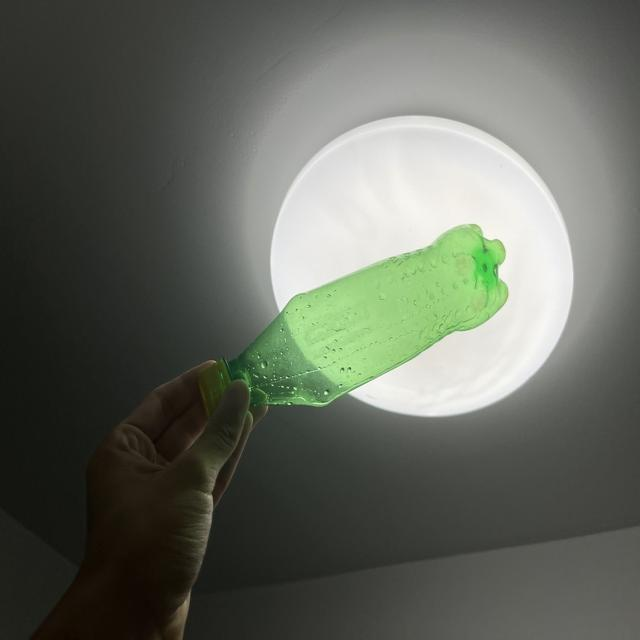empty: (199, 225, 508, 415)
